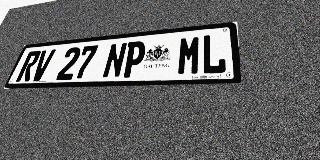2: (56, 47, 82, 80)
7: (72, 45, 99, 80)
L: (201, 33, 227, 75)
M: (176, 35, 201, 76)
N: (102, 42, 128, 78)
P: (121, 40, 147, 78)
R: (15, 50, 42, 82)
V: (29, 49, 56, 81)
